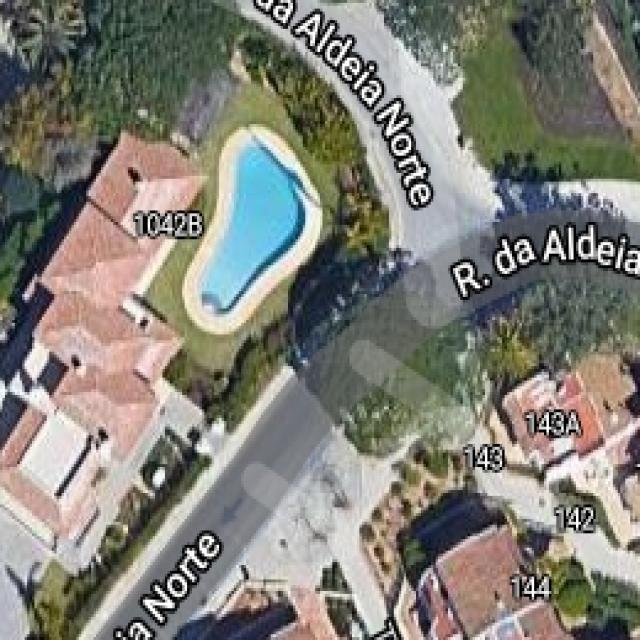pool: (119, 107, 355, 351)
